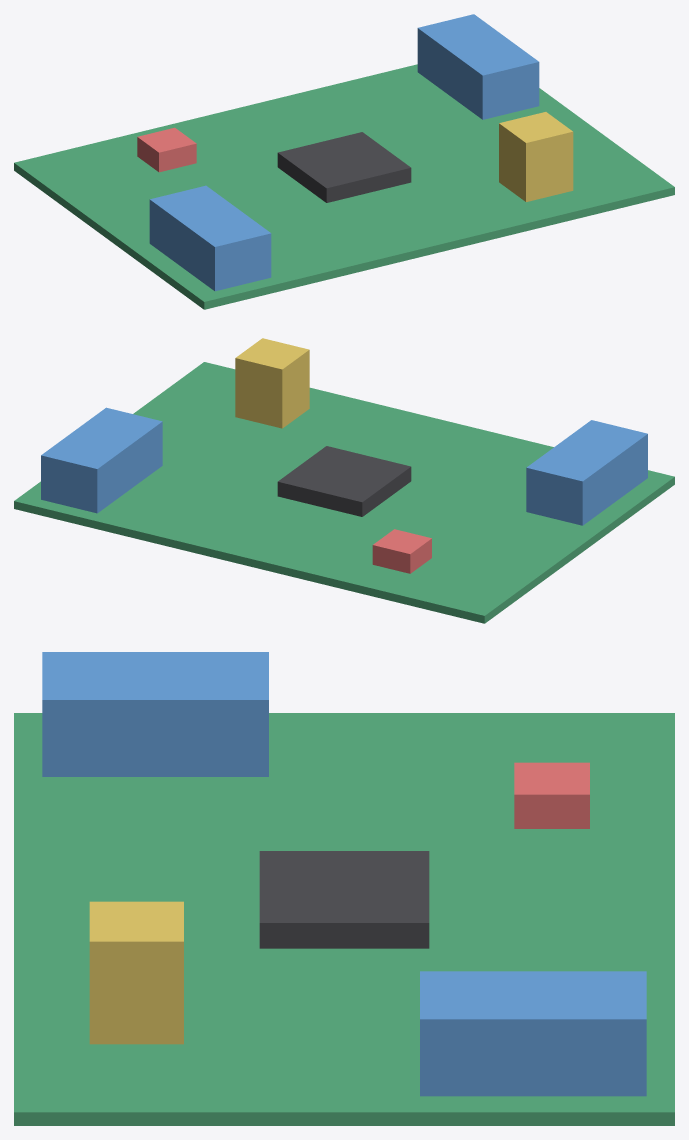
File: demo-model.glb
3 views of the same model, one above another, from view 1: azimuth 30°, elevation 25°; view 2: azimuth 150°, elevation 25°; view 3: azimuth 270°, elevation 25° (orthographic). The views are drawn at different scales.
Parts seen in each view (by area): view 1: board, connector-left, connector-right, chip, capacitor, button; view 2: board, connector-left, connector-right, chip, capacitor, button; view 3: board, connector-right, connector-left, chip, capacitor, button.
Boxes of the visible parts, x1=… form: board: x1=14, y1=64, x2=674, y2=309; connector-left: x1=149, y1=185, x2=271, y2=291; connector-right: x1=417, y1=14, x2=539, y2=119; chip: x1=277, y1=132, x2=411, y2=202; capacitor: x1=499, y1=112, x2=573, y2=201; button: x1=137, y1=127, x2=196, y2=172; board: x1=14, y1=362, x2=674, y2=623; connector-left: x1=526, y1=420, x2=647, y2=525; connector-right: x1=41, y1=407, x2=162, y2=513; chip: x1=277, y1=446, x2=411, y2=516; capacitor: x1=235, y1=338, x2=309, y2=428; button: x1=372, y1=529, x2=431, y2=573; board: x1=14, y1=713, x2=674, y2=1125; connector-right: x1=420, y1=971, x2=646, y2=1096; connector-left: x1=42, y1=652, x2=268, y2=776; chip: x1=259, y1=851, x2=429, y2=948; capacitor: x1=89, y1=901, x2=183, y2=1044; button: x1=514, y1=762, x2=589, y2=828.
Size of the model in its own units: 0.1 by 0.0136 by 0.07.
